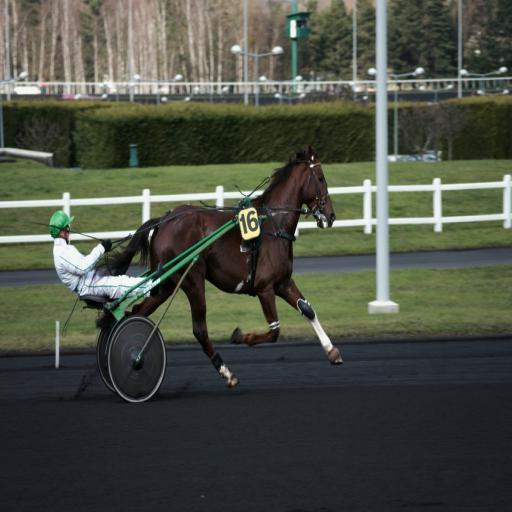horse: (88, 136, 344, 384)
